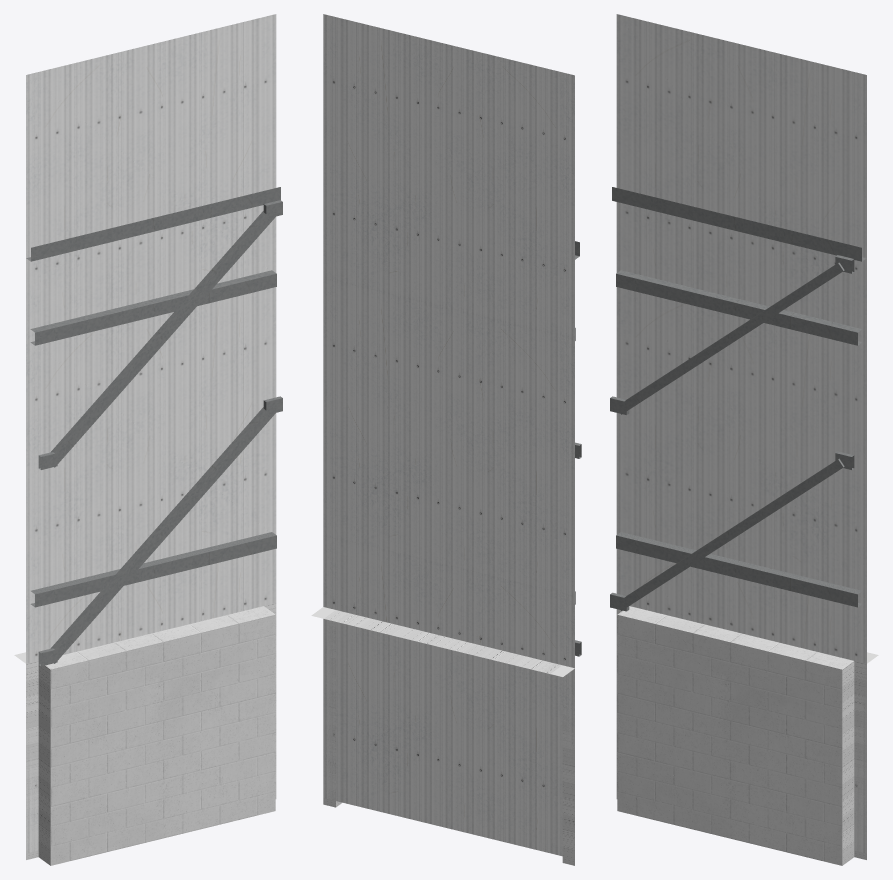
The model's file is warehouse_wall_longitudinal.glb.
3 views of the same model, side by side, from view 1: azimuth 30°, elevation 25°; view 2: azimuth 150°, elevation 25°; view 3: azimuth 330°, elevation 25° (orthographic).
Visible parts, largest first — view 1: Plane.014, Plane.012, Plane, Plane.013, Cube.018, Cube.017, Cube.016, Cube.013, Cube.029; view 2: Plane.014, Plane.012, Plane.013, Plane; view 3: Plane.014, Plane.012, Plane, Plane.013, Cube.016, Cube.013, Cube.029, Cube.017, Cube.018.
Part boxes in pixels (box(x1,y1,x2,y2)): Plane.014: box(26, 14, 276, 336); Plane.012: box(26, 287, 276, 598); Plane: box(14, 603, 276, 865); Plane.013: box(26, 531, 276, 853); Cube.018: box(38, 396, 282, 666); Cube.017: box(38, 200, 282, 469); Cube.016: box(30, 270, 276, 345); Cube.013: box(30, 532, 276, 607); Cube.029: box(26, 187, 280, 261); Plane.014: box(323, 14, 574, 338); Plane.012: box(323, 277, 574, 595); Plane.013: box(323, 534, 574, 856); Plane: box(311, 607, 574, 865); Plane.014: box(616, 14, 866, 336); Plane.012: box(616, 287, 866, 598); Plane: box(616, 606, 878, 865); Plane.013: box(616, 549, 866, 853); Cube.016: box(616, 270, 862, 345); Cube.013: box(616, 532, 862, 607); Cube.029: box(612, 187, 866, 261); Cube.017: box(610, 255, 854, 415); Cube.018: box(610, 451, 854, 611).
Bounding box in the file's own units: 12 × 36 × 2.
3 materials, 3 textured.
